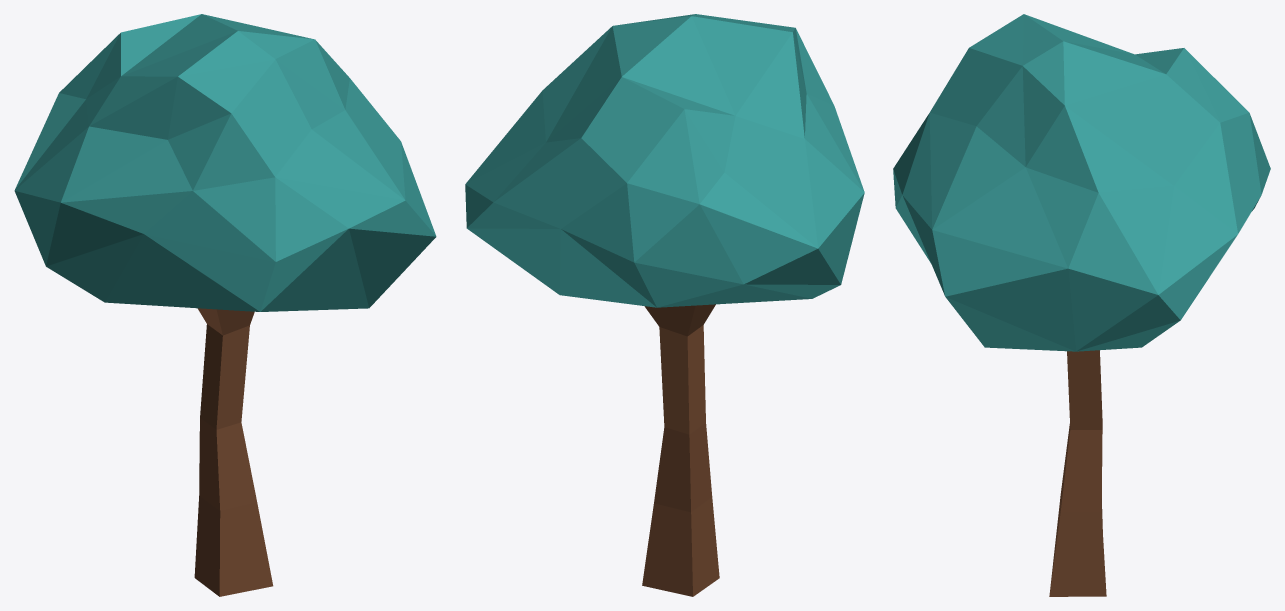
Rendered from Tree_28_Blue.fbx.
The picture shows the model from 3 angles, left to right: view 1: azimuth 30°, elevation 25°; view 2: azimuth 150°, elevation 25°; view 3: azimuth 270°, elevation 25°; orthographic projection. The views are drawn at different scales.
Visible parts, largest first — view 1: Tree_28_Blue_Part_1, Tree_28_Blue_Part_2; view 2: Tree_28_Blue_Part_1, Tree_28_Blue_Part_2; view 3: Tree_28_Blue_Part_1, Tree_28_Blue_Part_2.
Part boxes in pixels (<box>): Tree_28_Blue_Part_1: <box>14,14,436,311</box>; Tree_28_Blue_Part_2: <box>194,308,273,596</box>; Tree_28_Blue_Part_1: <box>465,14,864,307</box>; Tree_28_Blue_Part_2: <box>642,304,719,596</box>; Tree_28_Blue_Part_1: <box>893,14,1270,351</box>; Tree_28_Blue_Part_2: <box>1049,350,1106,596</box>.
Bounding box in the file's own units: 529 × 802 × 506.
